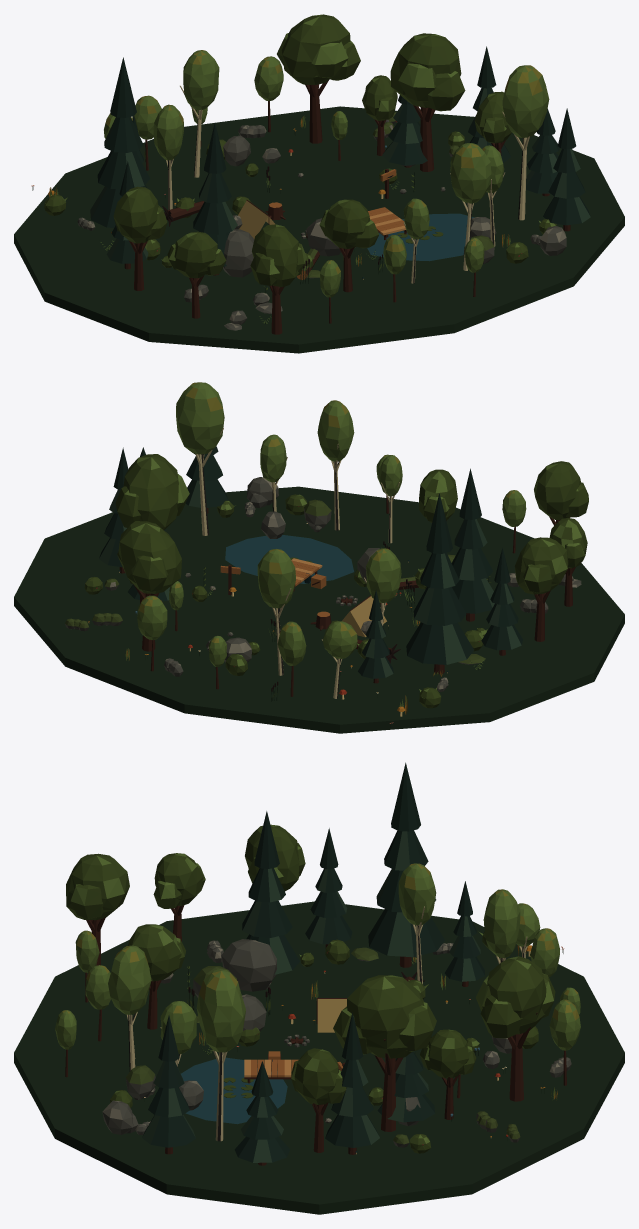
File: ForestDemo.fbx
The picture shows the model from 3 angles, top to bottom: view 1: azimuth 30°, elevation 25°; view 2: azimuth 150°, elevation 25°; view 3: azimuth 270°, elevation 25°; orthographic projection. The views are drawn at different scales.
Parts seen in each view (by area): view 1: Demo_Ground, Tree_Oak_03_Foliage.001, Tree_Oak_03_Foliage.002, Tree_Pine_03_Foliage.001, Tree_Pine_03_Foliage.002, Tree_Oak_02_Foliage.002, Tree_Pine_02_Foliage.001, Tree_Birch_03_Foliage.002, Demo_Pond, Tree_Oak_02_Foliage.001, Tree_Oak_04_Foliage.002, Tree_Oak_04_Foliage.001 (+27 smaller); view 2: Demo_Ground, Tree_Pine_03_Foliage.001, Tree_Oak_03_Foliage.001, Tree_Oak_03_Foliage.002, Tree_Pine_03_Foliage.002, Demo_Pond, Tree_Birch_03_Foliage.002, Tree_Oak_02_Foliage.002, Tree_Oak_02_Foliage.001, Tree_Pine_01_Foliage.002, Tree_Birch_02_Foliage.001, Tree_Birch_03_Foliage.001 (+18 smaller); view 3: Demo_Ground, Tree_Oak_03_Foliage.001, Tree_Pine_03_Foliage.001, Tree_Oak_03_Foliage.002, Tree_Pine_03_Foliage.002, Tree_Pine_02_Foliage.001, Tree_Pine_02_Foliage.002, Tree_Oak_02_Foliage.002, Demo_Pond, Tree_Birch_03_Foliage.002, Tree_Pine_04_Foliage.001, Tree_Pine_01_Foliage.002 (+26 smaller).
Boxes of the visible parts, x1,y1,x2,y2 form: Demo_Ground: (14, 106, 624, 353); Tree_Oak_03_Foliage.001: (390, 33, 465, 111); Tree_Oak_03_Foliage.002: (277, 14, 360, 84); Tree_Pine_03_Foliage.001: (90, 57, 150, 227); Tree_Pine_03_Foliage.002: (193, 123, 237, 266); Tree_Oak_02_Foliage.002: (250, 224, 306, 287); Tree_Pine_02_Foliage.001: (543, 108, 590, 225); Tree_Birch_03_Foliage.002: (502, 65, 549, 137); Demo_Pond: (367, 213, 474, 261); Tree_Oak_02_Foliage.001: (113, 186, 167, 243); Tree_Oak_04_Foliage.002: (319, 199, 378, 248); Tree_Oak_04_Foliage.001: (167, 231, 226, 278); Demo_Ground: (14, 486, 624, 733); Tree_Pine_03_Foliage.001: (406, 493, 473, 664); Tree_Oak_03_Foliage.001: (115, 454, 189, 529); Tree_Oak_03_Foliage.002: (117, 521, 181, 593); Tree_Pine_03_Foliage.002: (451, 468, 494, 613); Demo_Pond: (225, 535, 353, 583); Tree_Birch_03_Foliage.002: (176, 382, 224, 454); Tree_Oak_02_Foliage.002: (534, 461, 588, 519); Tree_Oak_02_Foliage.001: (514, 537, 568, 594); Tree_Pine_01_Foliage.002: (481, 548, 522, 650); Tree_Birch_02_Foliage.001: (257, 549, 295, 608); Tree_Birch_03_Foliage.001: (317, 400, 354, 461); Demo_Ground: (14, 901, 624, 1214); Tree_Oak_03_Foliage.001: (333, 975, 436, 1058); Tree_Pine_03_Foliage.001: (368, 762, 444, 957); Tree_Oak_03_Foliage.002: (476, 956, 555, 1038); Tree_Pine_03_Foliage.002: (242, 811, 299, 974); Tree_Pine_02_Foliage.001: (142, 1015, 195, 1147); Tree_Pine_02_Foliage.002: (325, 1012, 379, 1147); Tree_Oak_02_Foliage.002: (66, 853, 129, 920); Demo_Pond: (181, 1057, 287, 1124); Tree_Birch_03_Foliage.002: (196, 969, 245, 1052); Tree_Pine_04_Foliage.001: (234, 1061, 289, 1162); Tree_Pine_01_Foliage.002: (305, 828, 352, 944).
Bounding box in the file's own units: 32 × 10.48 × 27.2.
1 material, 1 textured.
